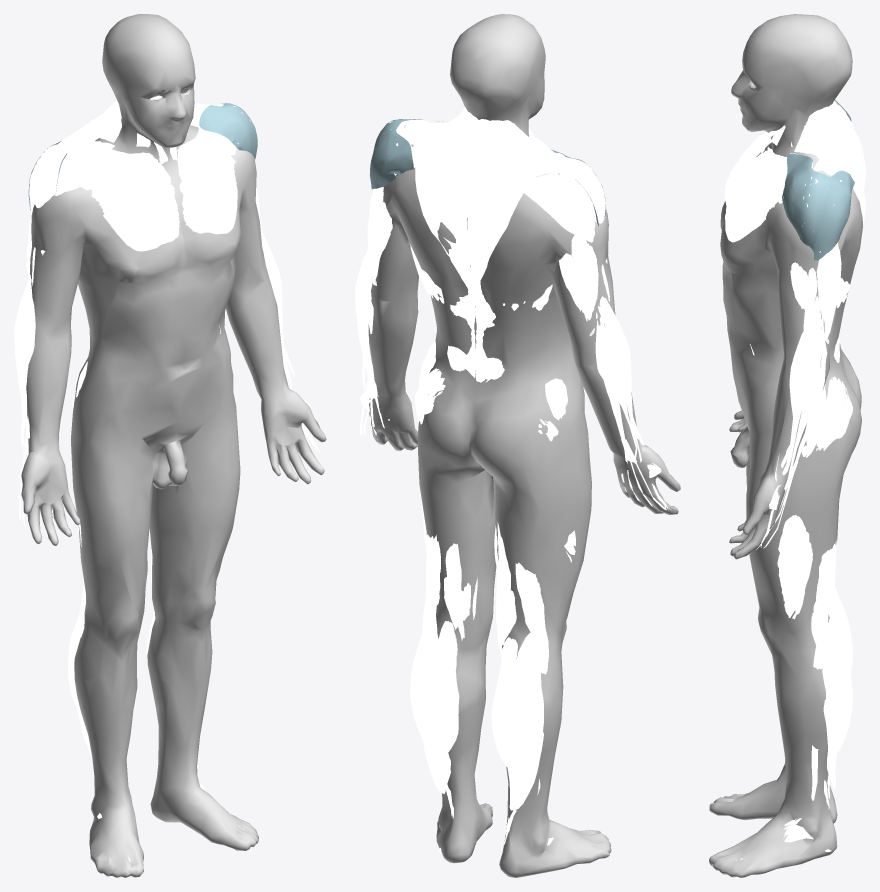
File: muscles.glb
3 renders of one model, left to right at view 1: azimuth 30°, elevation 25°; view 2: azimuth 150°, elevation 25°; view 3: azimuth 270°, elevation 25°, orthographic. The views are drawn at different scales.
Visible parts, largest first — view 1: skin, chest, shoulders, forearms, traps, calves; view 2: skin, traps, calves, forearms, shoulders, hamstrings, triceps, lats, glutes, abductors; view 3: skin, forearms, shoulders, chest, calves, traps, quadriceps, hamstrings, glutes, triceps, biceps, abductors (+1 smaller).
Boxes of the visible parts, left/top/right/bottom form: skin: left=21, top=14, right=326, bottom=877; chest: left=80, top=128, right=237, bottom=251; shoulders: left=28, top=103, right=257, bottom=214; forearms: left=14, top=233, right=320, bottom=861; traps: left=58, top=100, right=221, bottom=145; calves: left=67, top=611, right=155, bottom=755; skin: left=368, top=14, right=680, bottom=877; traps: left=400, top=107, right=569, bottom=300; calves: left=410, top=606, right=543, bottom=810; forearms: left=355, top=248, right=671, bottom=854; shoulders: left=369, top=119, right=605, bottom=242; hamstrings: left=422, top=522, right=548, bottom=674; triceps: left=367, top=187, right=598, bottom=336; lats: left=410, top=244, right=552, bottom=382; glutes: left=415, top=368, right=558, bottom=441; abductors: left=418, top=340, right=567, bottom=420; skin: left=709, top=14, right=862, bottom=877; forearms: left=728, top=296, right=831, bottom=860; shoulders: left=782, top=100, right=854, bottom=260; chest: left=725, top=133, right=787, bottom=242; calves: left=822, top=587, right=852, bottom=788; traps: left=794, top=101, right=865, bottom=224; quadriceps: left=777, top=515, right=812, bottom=619; hamstrings: left=811, top=539, right=836, bottom=669; glutes: left=815, top=376, right=852, bottom=451; triceps: left=816, top=243, right=841, bottom=343; biceps: left=790, top=262, right=817, bottom=330; abductors: left=801, top=384, right=826, bottom=457.
Size of the model in its own units: 0.6402 by 1.65 by 0.2851.
